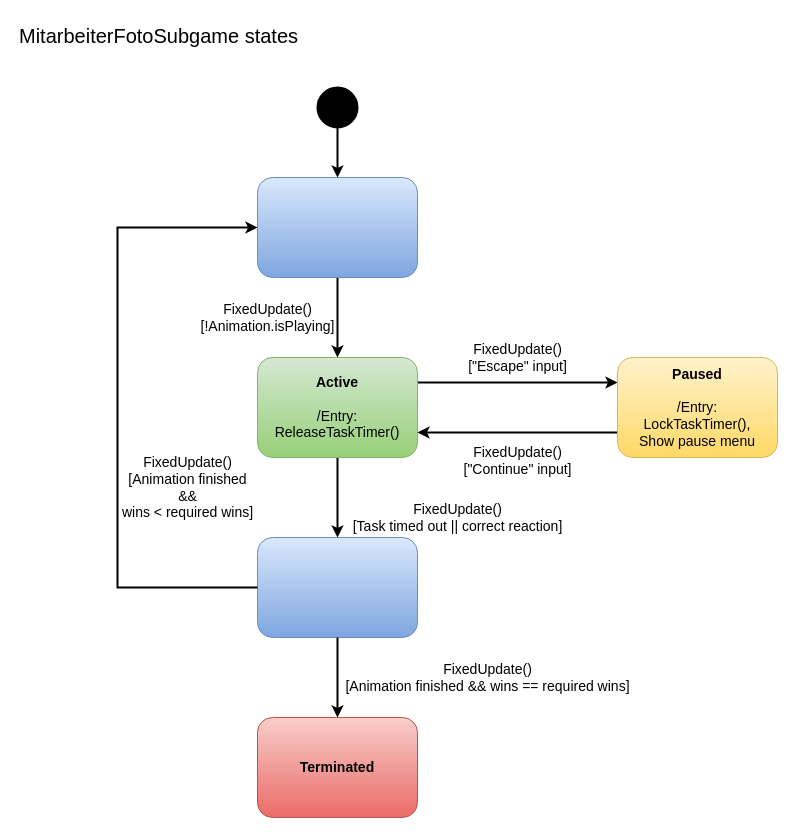
This 795x835 diagram has some shape labels left out. The centre of each missing label's shape, as x and y in pixels:
FadingIn /Entry: Load task content, Play animation: point (337, 227)
FadingOut /Entry: Play animation: point (337, 587)
